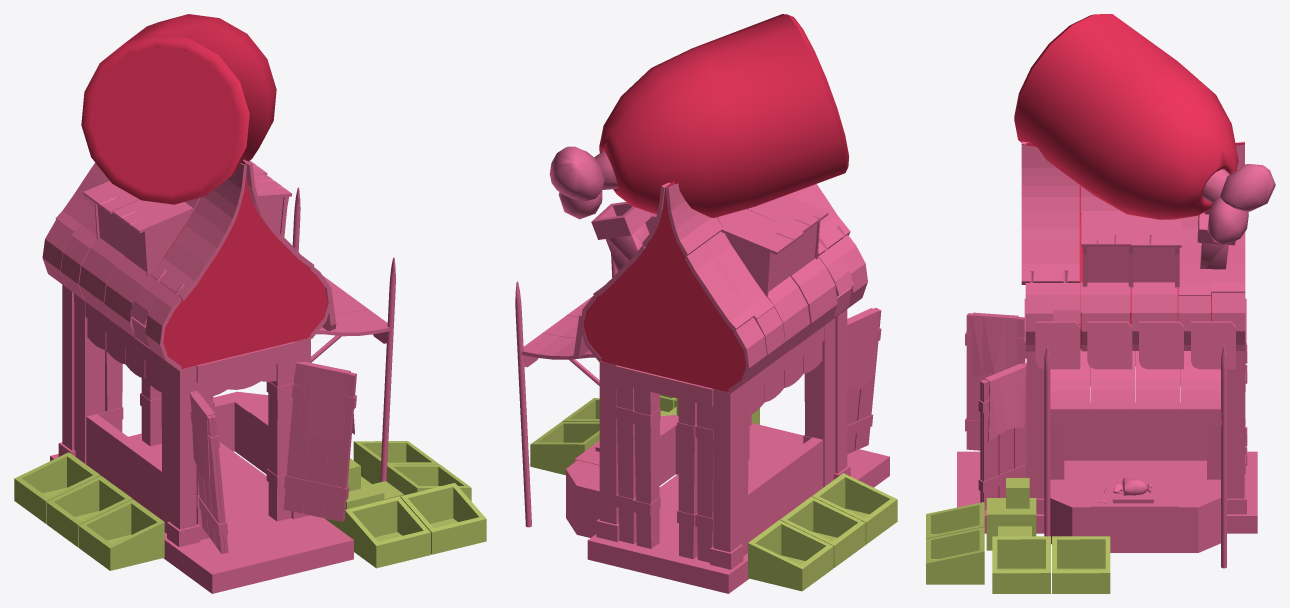
Rendered from shop_butcher_01.fbx.
3 views of the same model, side by side, from view 1: azimuth 30°, elevation 25°; view 2: azimuth 150°, elevation 25°; view 3: azimuth 270°, elevation 25° (orthographic). The views are drawn at different scales.
Visible parts, largest first — view 1: Cylinder.012.frozen.010; view 2: Cylinder.012.frozen.010; view 3: Cylinder.012.frozen.010.
Part boxes in pixels (x1,y1,x2,y2): Cylinder.012.frozen.010: (14, 14, 486, 593); Cylinder.012.frozen.010: (515, 14, 897, 593); Cylinder.012.frozen.010: (926, 14, 1275, 593).
Size of the model in its own units: 1222 by 1753 by 1198.
